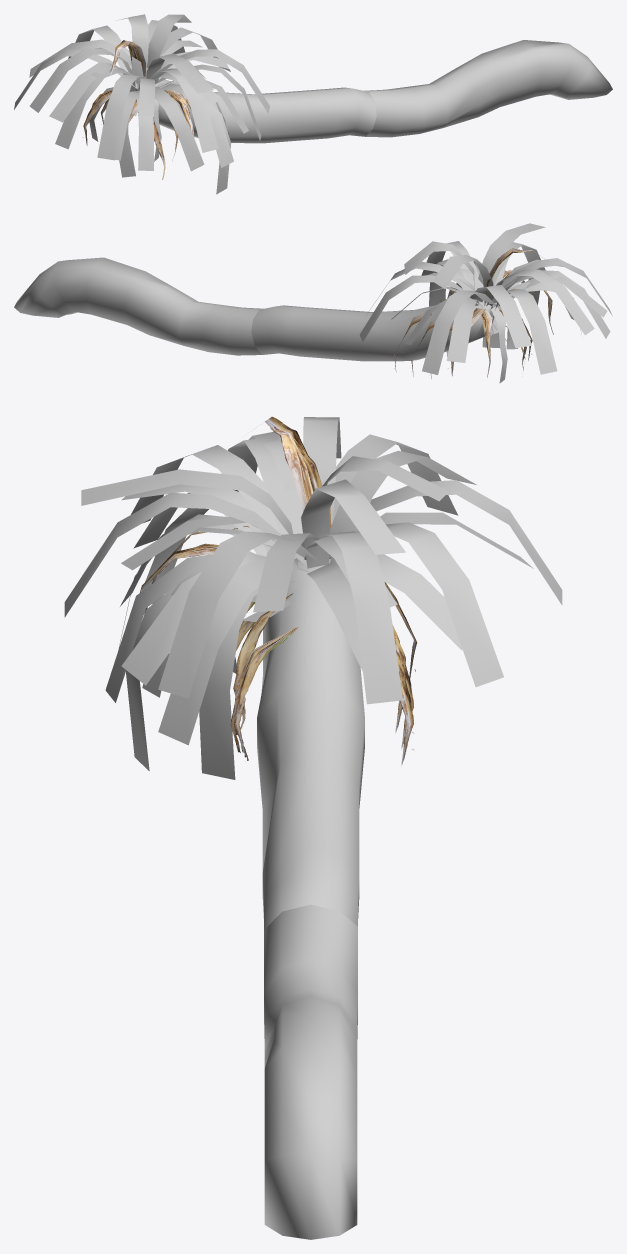
The model's file is ground palm.dae.
3 renders of one model, top to bottom at view 1: azimuth 30°, elevation 25°; view 2: azimuth 150°, elevation 25°; view 3: azimuth 270°, elevation 25°, orthographic. The views are drawn at different scales.
Parts seen in each view (by area): view 1: ground_palm_Group8_Form1, ground_palm_Group8_Form42, ground_palm_Form5, ground_palm_Form6, ground_palm_Group8_Form421, ground_palm_Form3; view 2: ground_palm_Group8_Form1, ground_palm_Group8_Form42, ground_palm_Form6, ground_palm_Form5, ground_palm_Group8_Form421, ground_palm_Group8_d1; view 3: ground_palm_Group8_Form1, ground_palm_Group8_Form42, ground_palm_Form5, ground_palm_Form6, ground_palm_Form3, ground_palm_Group8_d1, ground_palm_Group8_Form421.
Part boxes in pixels (x1,y1,x2,y2): ground_palm_Group8_Form1: [135, 40, 612, 143]; ground_palm_Group8_Form42: [14, 14, 269, 194]; ground_palm_Form5: [115, 40, 228, 170]; ground_palm_Form6: [29, 39, 139, 122]; ground_palm_Group8_Form421: [82, 40, 194, 179]; ground_palm_Form3: [159, 80, 248, 167]; ground_palm_Group8_Form1: [14, 257, 496, 361]; ground_palm_Group8_Form42: [359, 223, 612, 383]; ground_palm_Form6: [446, 269, 607, 362]; ground_palm_Form5: [391, 259, 573, 344]; ground_palm_Group8_Form421: [448, 248, 553, 377]; ground_palm_Group8_d1: [394, 290, 506, 379]; ground_palm_Group8_Form1: [257, 559, 364, 1239]; ground_palm_Group8_Form42: [64, 434, 562, 779]; ground_palm_Form5: [120, 484, 462, 671]; ground_palm_Form6: [249, 417, 533, 568]; ground_palm_Form3: [105, 552, 265, 702]; ground_palm_Group8_d1: [230, 593, 414, 765]; ground_palm_Group8_Form421: [140, 416, 416, 678].
Bounding box in the file's own units: 168 × 47.14 × 63.38.
